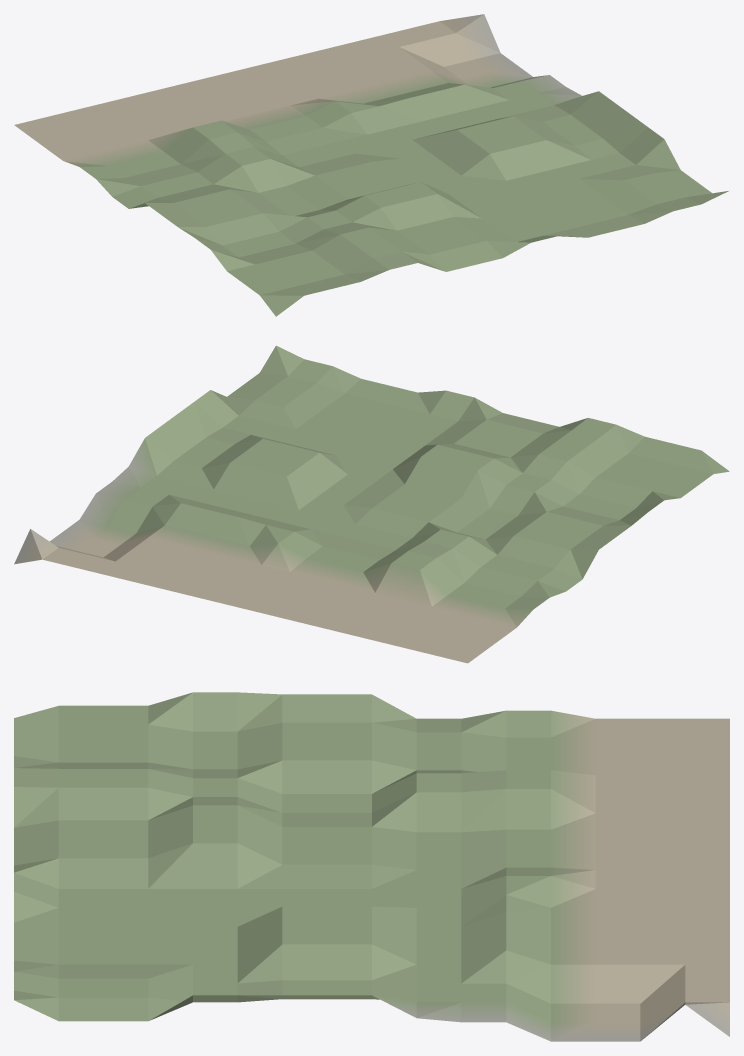
3 views of the same model, one above another, from view 1: azimuth 30°, elevation 25°; view 2: azimuth 150°, elevation 25°; view 3: azimuth 270°, elevation 25° (orthographic). The views are drawn at different scales.
Size of the model in its own units: 32 by 2.32 by 32.
